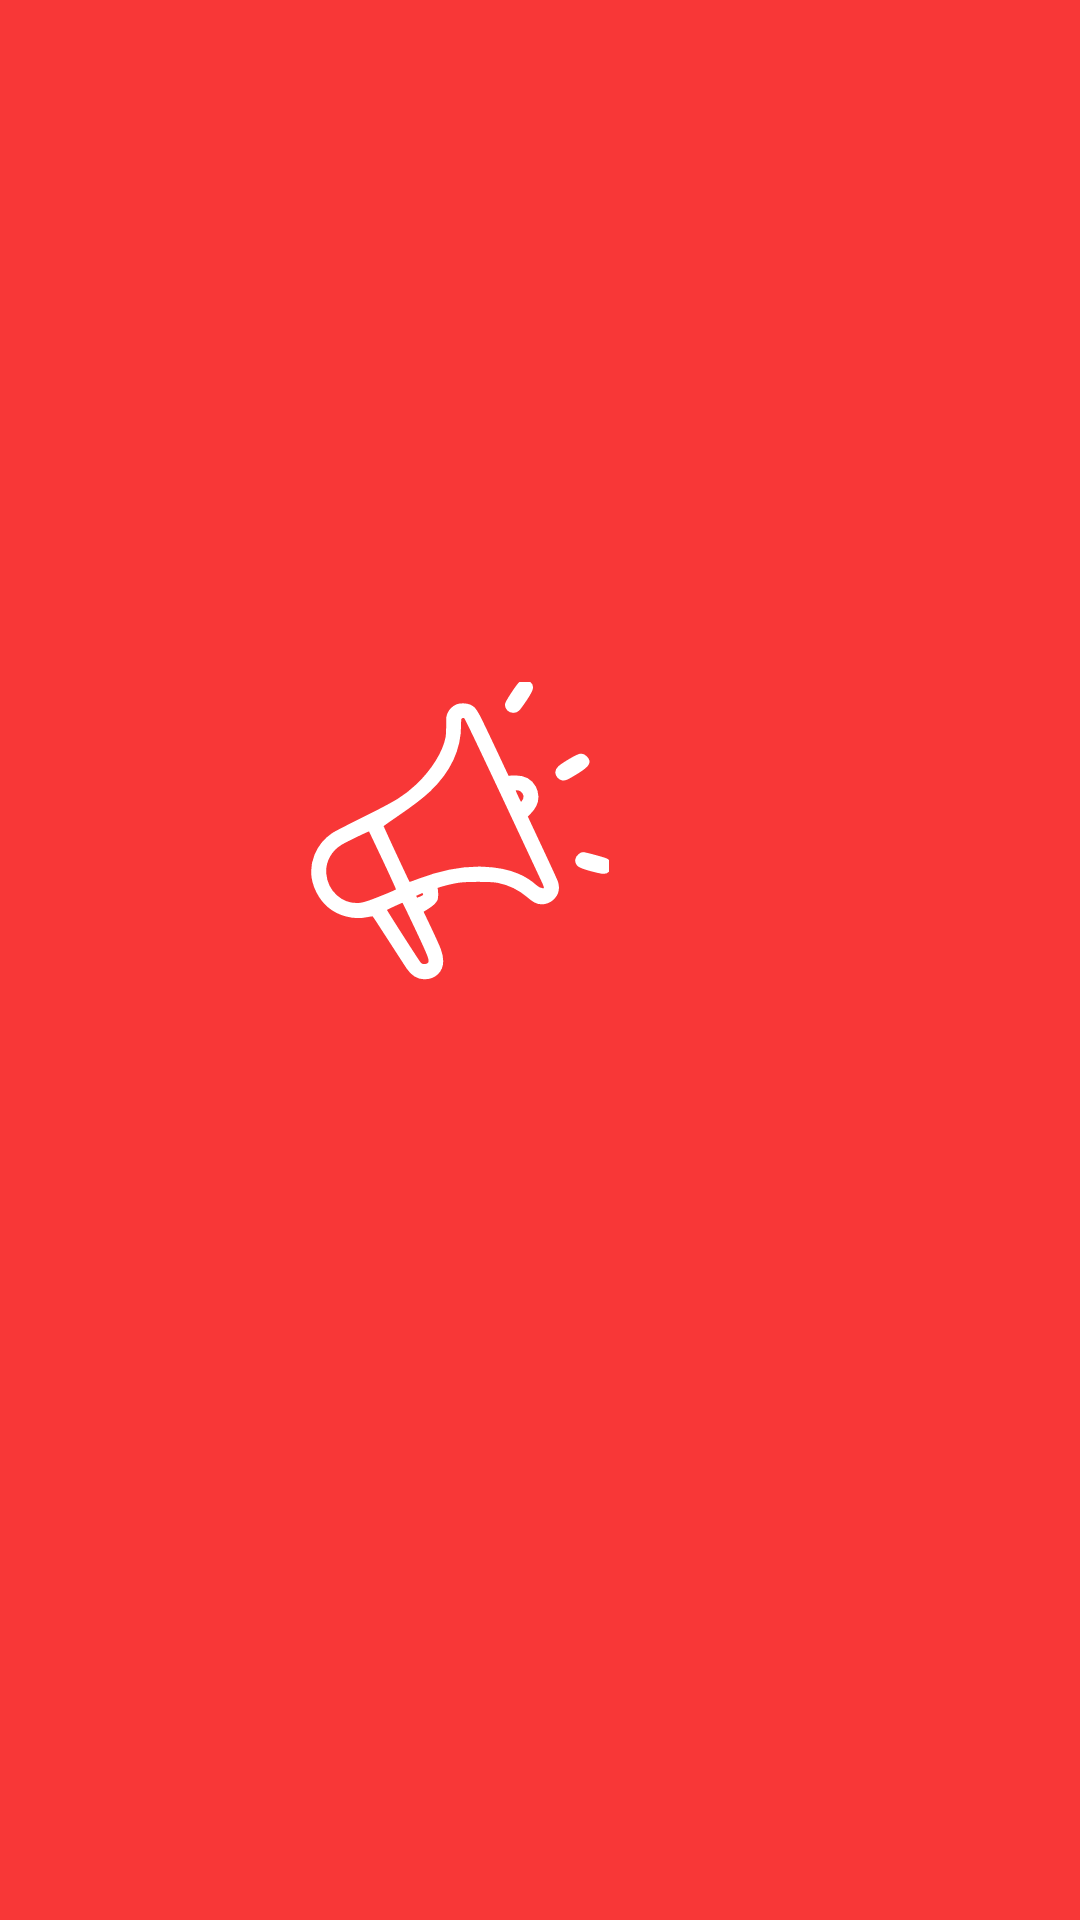

Named icons in this screenshot (1080 × 1920) and their bounding boxes, [x1, y1, x2, y2]:
anncounemetn: [311, 682, 609, 980]
